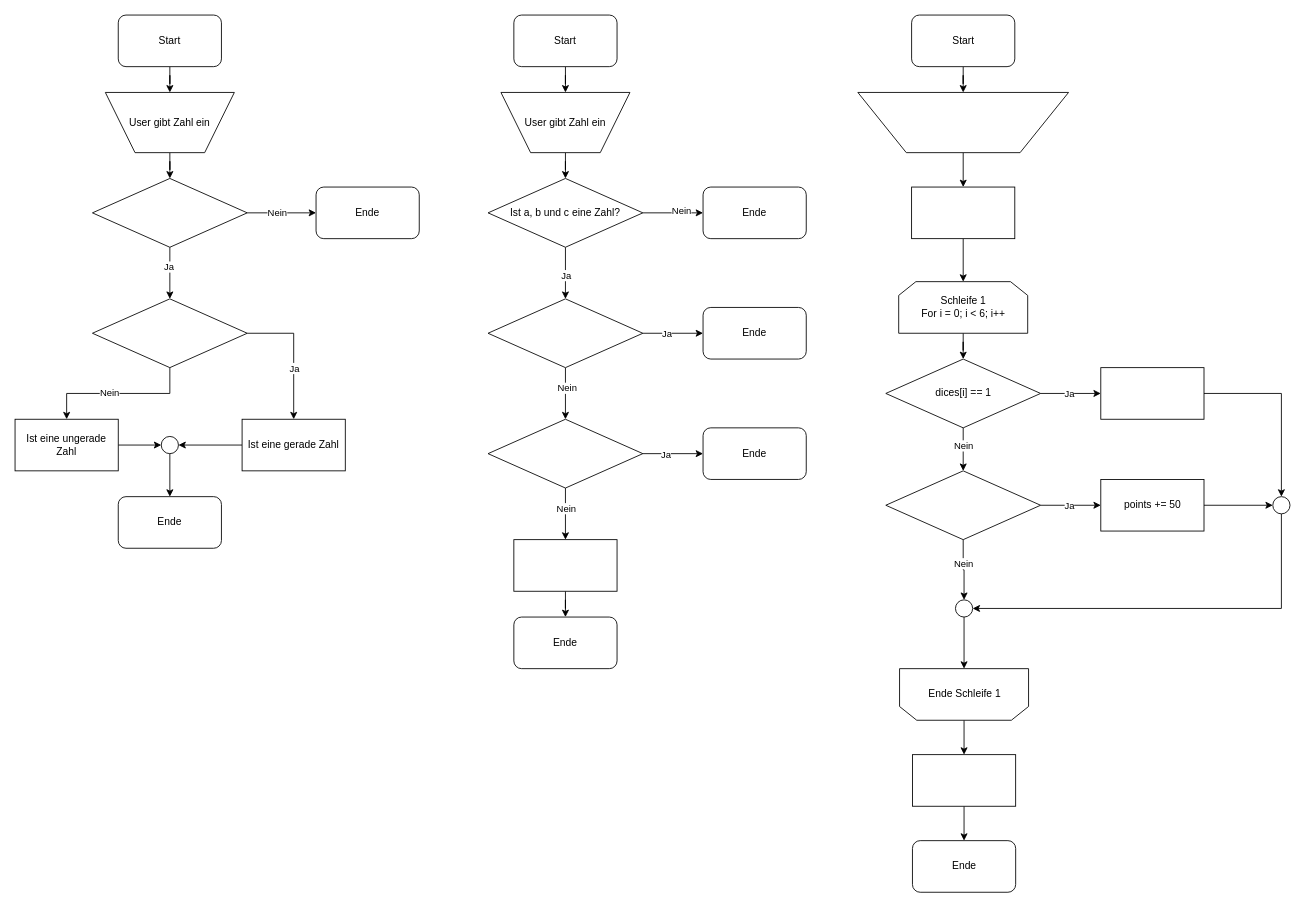
Some shapes in this 1305 by 907 pixel diagram are drawn without their labels. Here are the shapes that lost their labels. From the top down, the box of each, then its label:
(857, 92, 1069, 153): User würfelt mit sechs Würfeln
(92, 178, 247, 247): Ist es eine Zahl?
(911, 186, 1015, 239): points = 0
(92, 298, 247, 368): ist zahl % 2 == 0?
(487, 298, 643, 368): Ist a == 0
(1100, 367, 1204, 419): points += 100
(487, 418, 643, 488): Ist b^2-4ac < 0
(885, 470, 1041, 540): dices[i] == 5
(513, 539, 617, 591): Lösung wird berechnet und ausgegeben
(912, 754, 1016, 806): Gebe points aus
